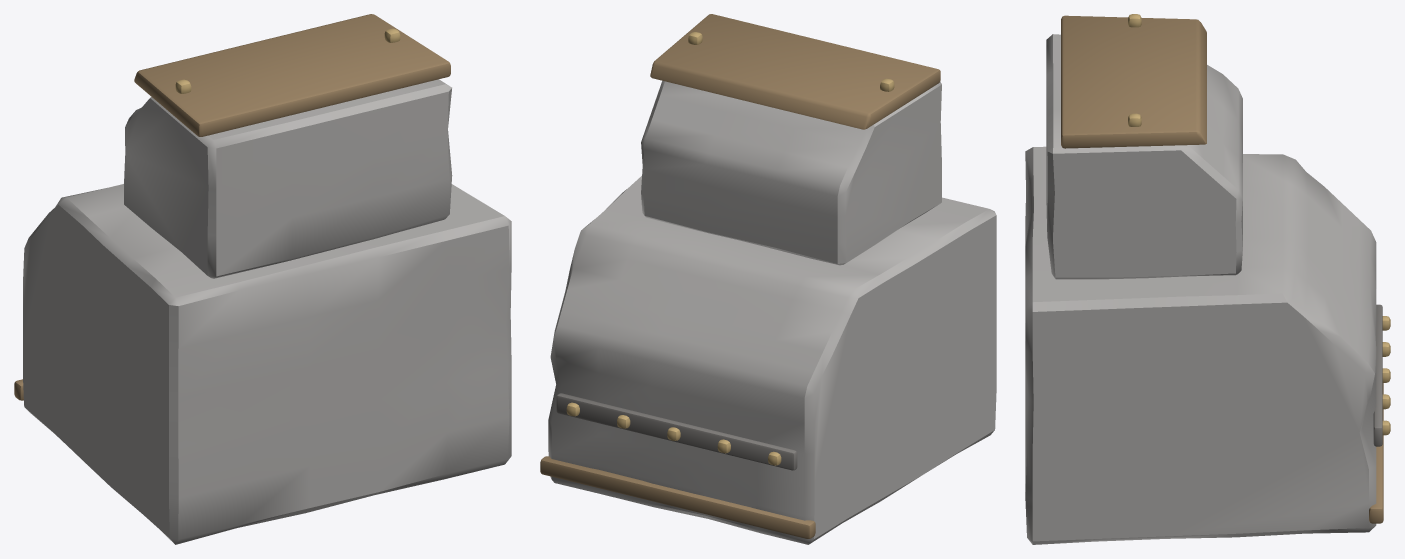
The model's file is SM_Area2_RimTooth_Big_C.glb.
3 renders of one model, left to right at view 1: azimuth 30°, elevation 25°; view 2: azimuth 150°, elevation 25°; view 3: azimuth 270°, elevation 25°, orthographic. The views are drawn at different scales.
Parts seen in each view (by area): view 1: SM_Area2_RimTooth_Big_C; view 2: SM_Area2_RimTooth_Big_C; view 3: SM_Area2_RimTooth_Big_C.
Boxes of the visible parts, box(x1,y1,x2,y2) form: SM_Area2_RimTooth_Big_C: box(14, 14, 511, 544); SM_Area2_RimTooth_Big_C: box(540, 14, 996, 544); SM_Area2_RimTooth_Big_C: box(1025, 14, 1390, 544).
Bounding box in the file's own units: 2.09 × 2.4 × 1.98.
